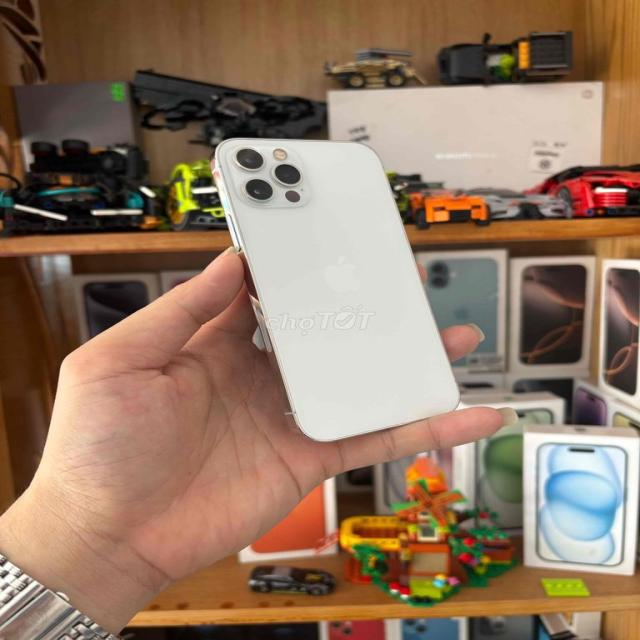gen_12_13: (208, 133, 470, 441)
